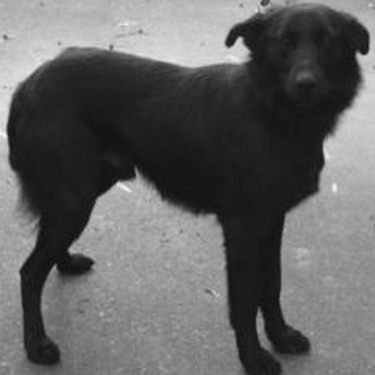dog: (6, 2, 369, 371)
